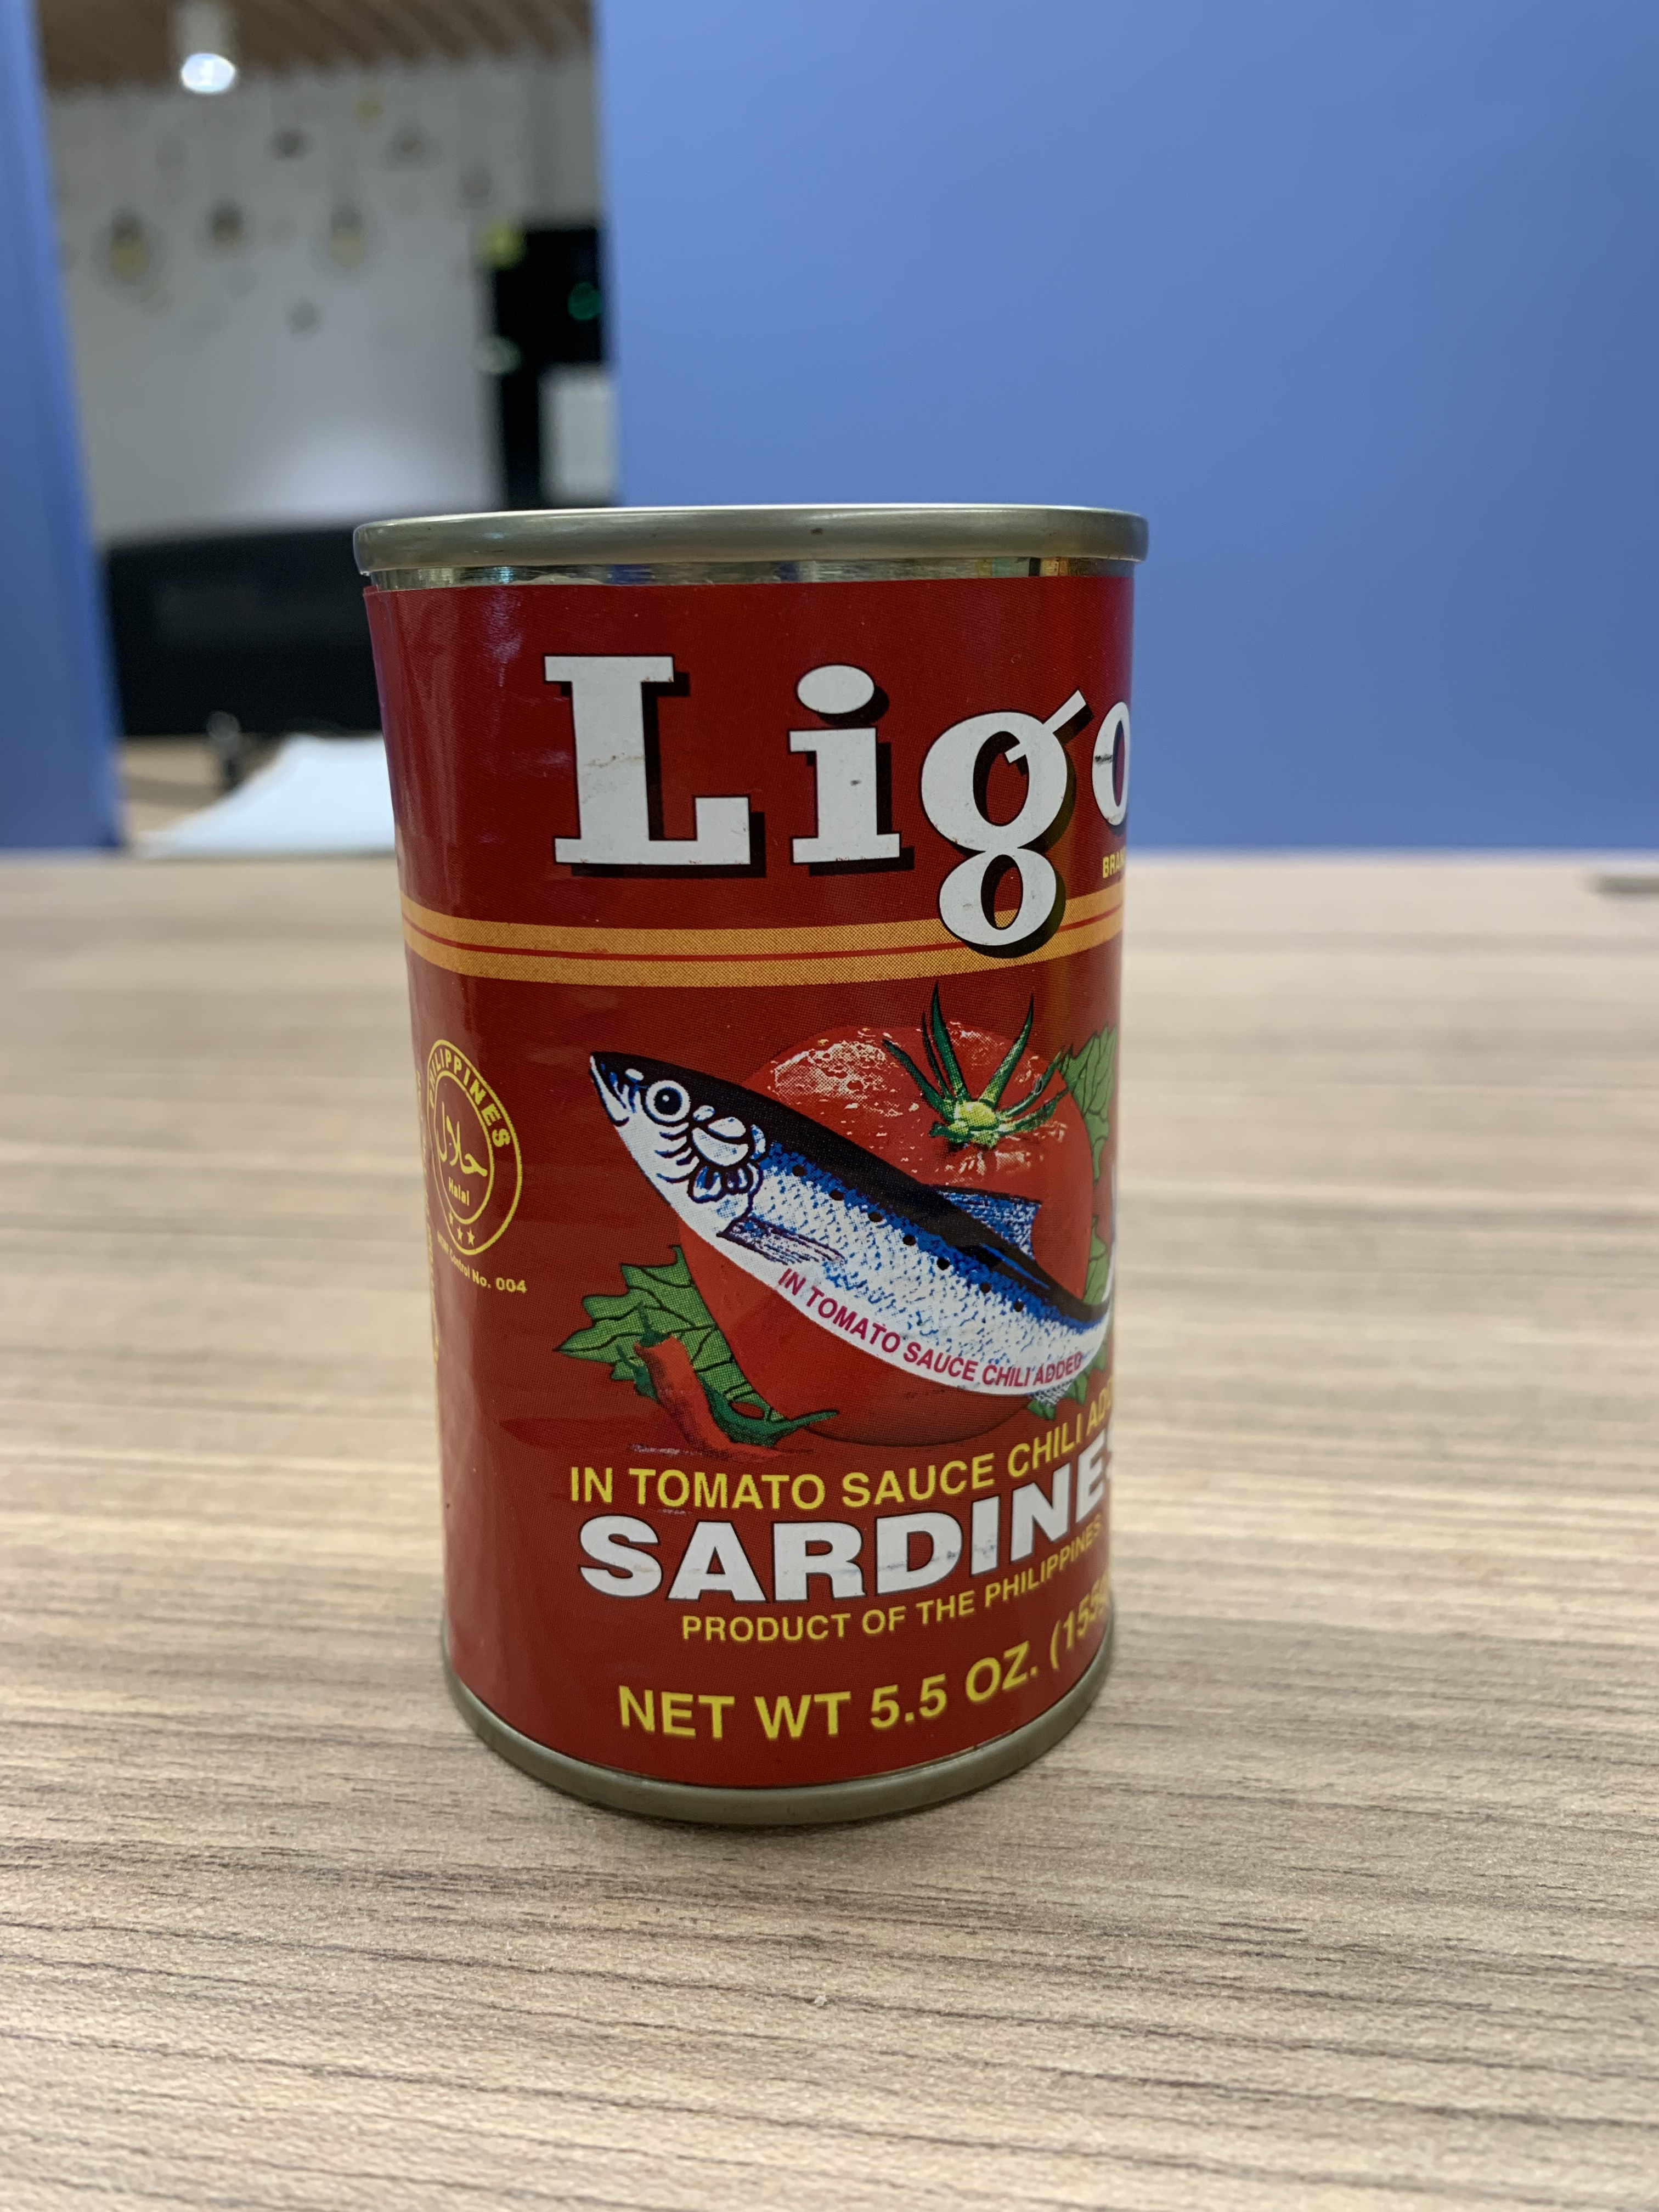sardines_100g-199g: (423, 629, 1115, 1733)
